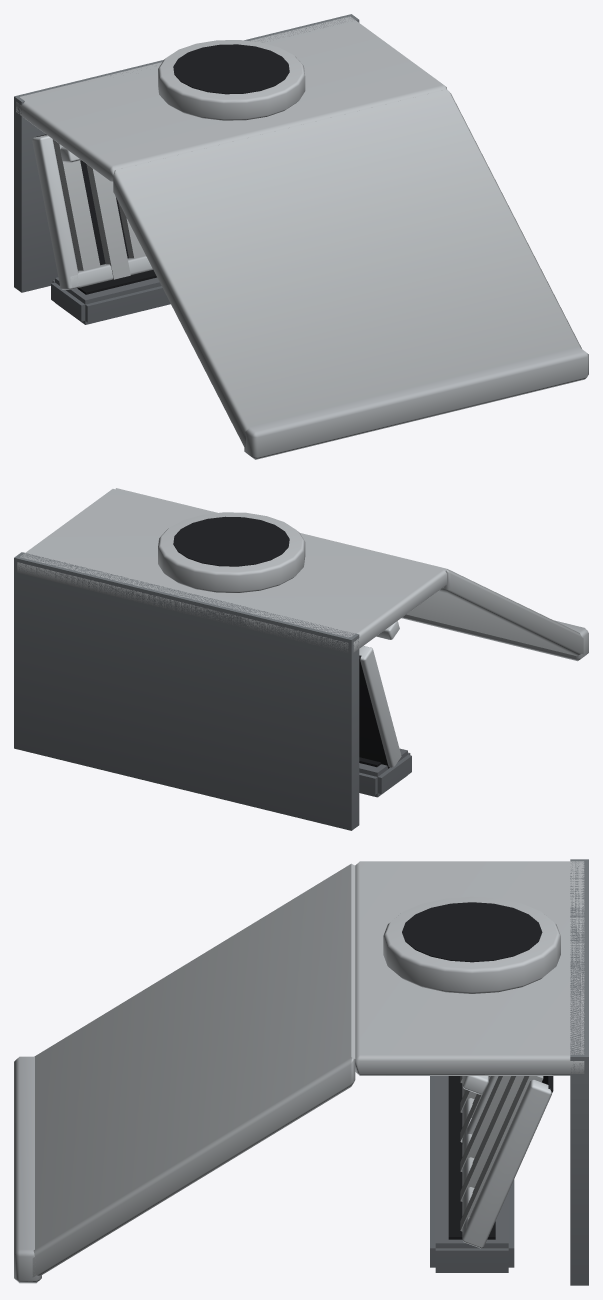
File: SM_Hood_Canopy_10.glb
3 views of the same model, one above another, from view 1: azimuth 30°, elevation 25°; view 2: azimuth 150°, elevation 25°; view 3: azimuth 270°, elevation 25° (orthographic). The views are drawn at different scales.
Parts seen in each view (by area): view 1: SM_Hood_Canopy_10; view 2: SM_Hood_Canopy_10; view 3: SM_Hood_Canopy_10.
Part boxes in pixels (box(x1,y1,x2,y2)): SM_Hood_Canopy_10: box(14, 14, 588, 459); SM_Hood_Canopy_10: box(14, 488, 588, 830); SM_Hood_Canopy_10: box(14, 859, 588, 1285).
Size of the model in its own units: 1 by 0.602 by 1.23.
1 material, 1 textured.
